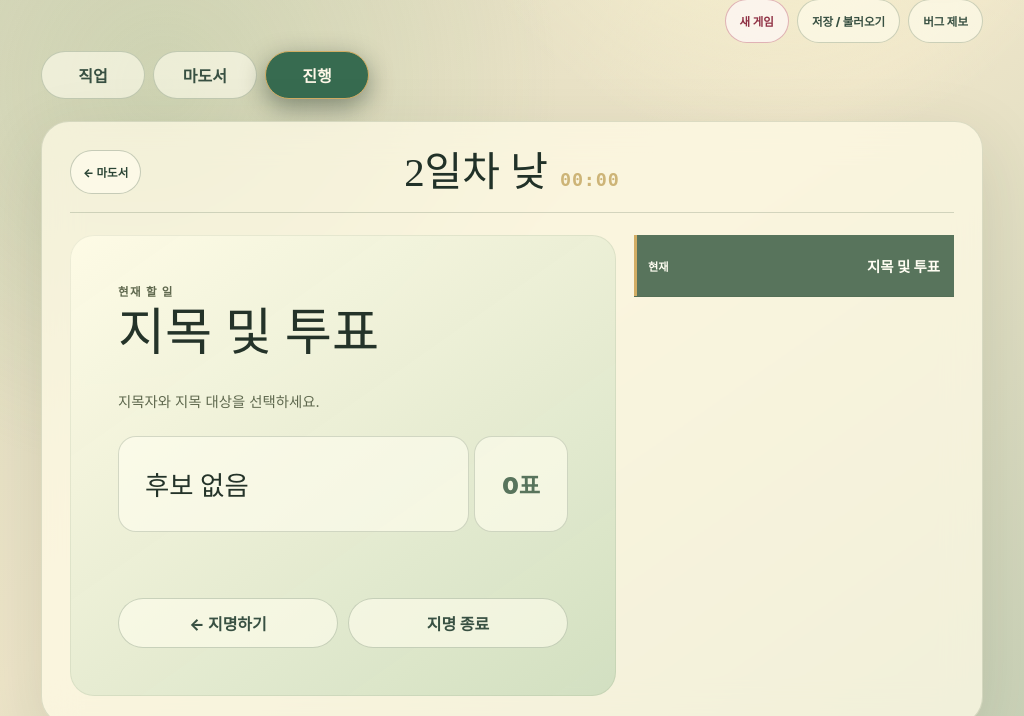
it: runs nomination and vote through the S&V grimoire modes
(page scrolled)
Click the button "← 지명하기" at (228, 622), box [118,598,338,648]
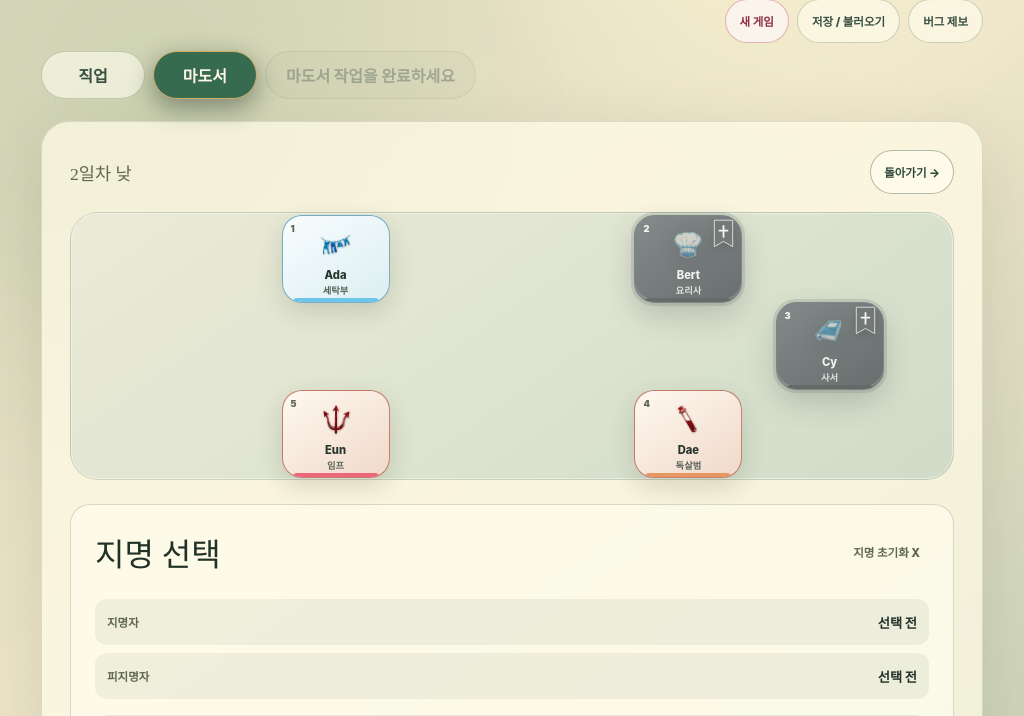
Click the button with aria-label "1번 좌석, Ada" at (336, 259), box [282,215,390,303]
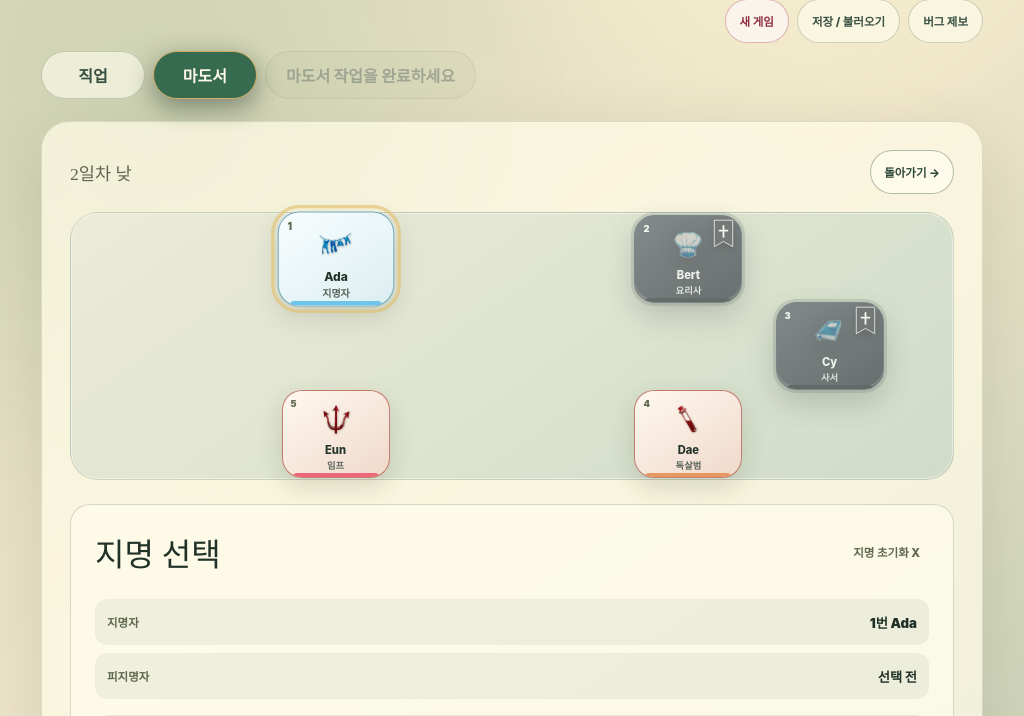
Click the button with aria-label "4번 좌석, Dae" at (688, 434), box [634,390,742,478]
(page scrolled)
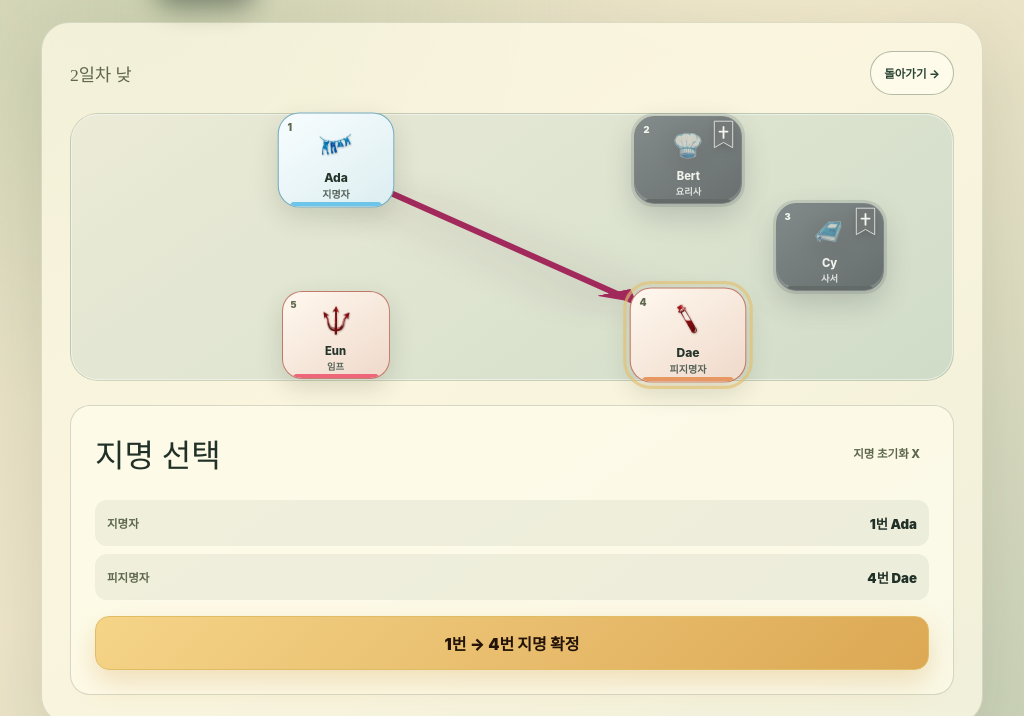
Now the icon with class "issue116NominationArrow" is shown, box [71,114,953,380]
Now the button "1번 → 4번 지명 확정" is shown, box [95,616,929,670]
